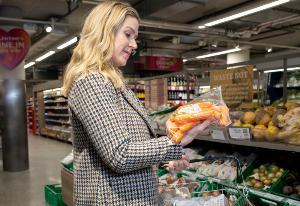carrot: (160, 80, 228, 142)
